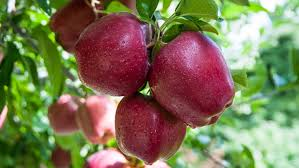apple: (152, 30, 240, 129), (77, 15, 152, 95), (115, 97, 192, 168)
